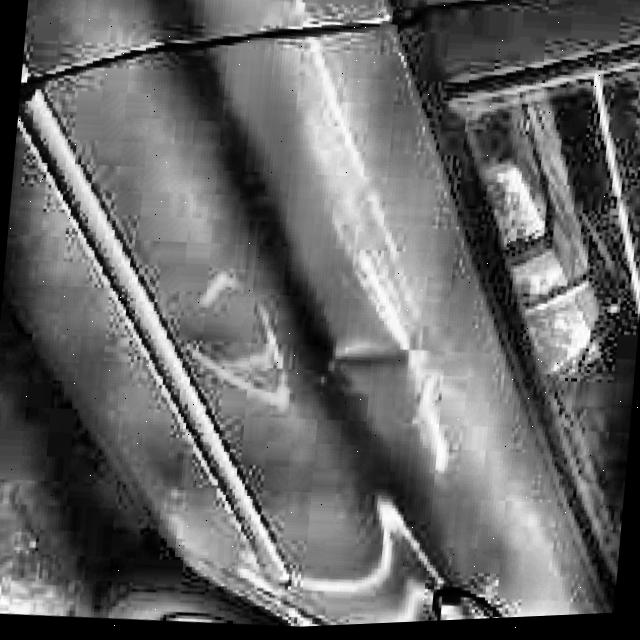door_dent: (317, 316, 416, 394)
